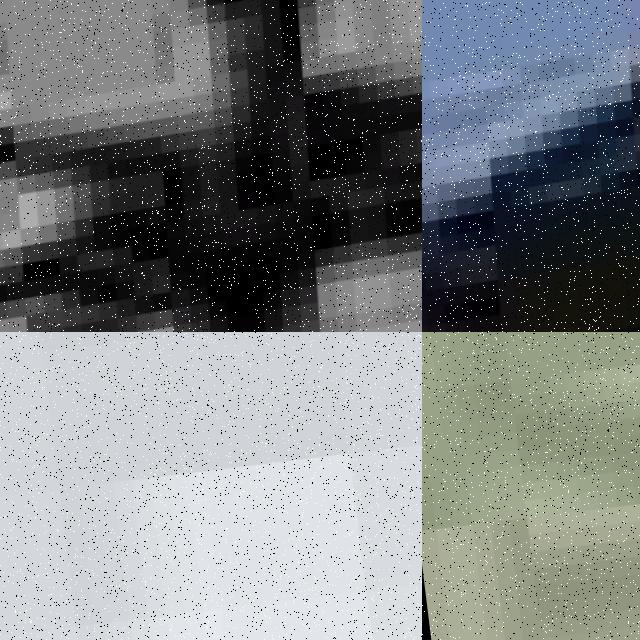drone: (0, 0, 422, 332), (422, 0, 640, 332)
